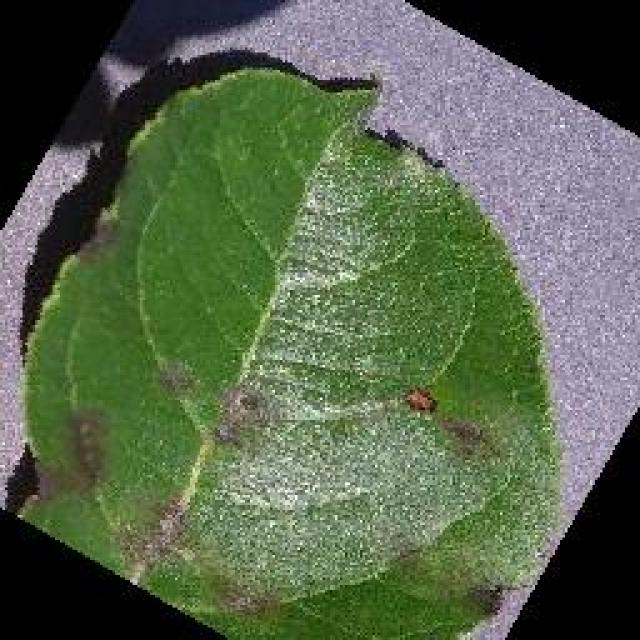apple scab disease: (12, 50, 568, 638)
